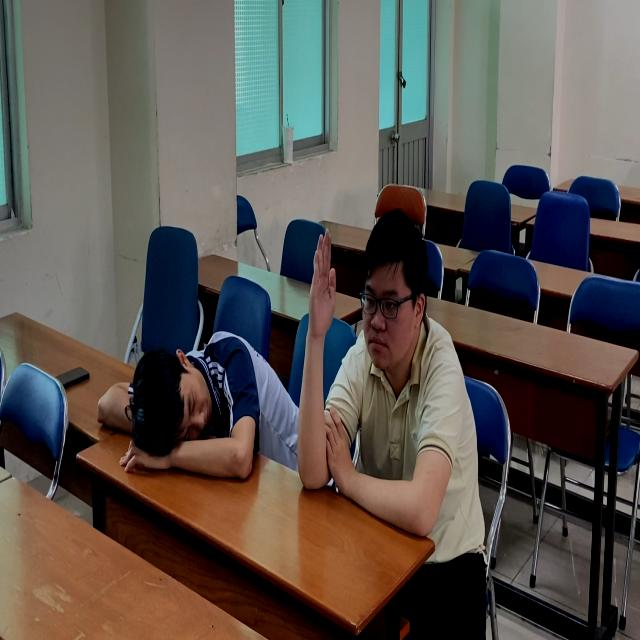raise_hand: (307, 211, 478, 562)
sleep: (87, 316, 288, 492)
